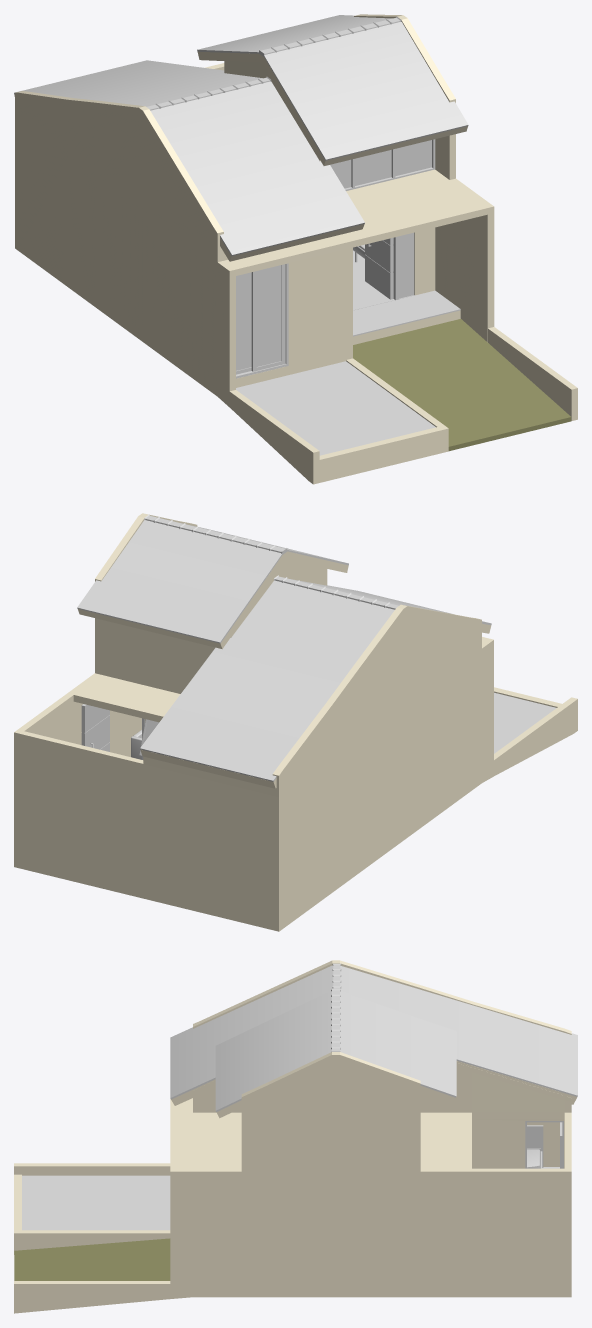
The model's file is NWP2.FBX.
The picture shows the model from 3 angles, top to bottom: view 1: azimuth 30°, elevation 25°; view 2: azimuth 150°, elevation 25°; view 3: azimuth 270°, elevation 25°; orthographic projection. The views are drawn at different scales.
Parts seen in each view (by area): view 1: Rectangle078, ATAPKIRI2, ATAPKANAN2, garasi001, taman depan001, floorTeras2dpn, Box109, KacaJendelaAtas003, Object014, Box111, Pintu2Depan, Box108 (+4 smaller); view 2: Rectangle078, ATAPKIRI2, ATAPKANAN2, taman depan001, Object014, Pintu2Belakang; view 3: Rectangle078, ATAPKIRI2, ATAPKANAN2, taman depan001, garasi001, Object014, DIPAN002.
Part boxes in pixels (x1,y1,x2,y2): Rectangle078: [14, 14, 577, 484]; ATAPKIRI2: [14, 60, 364, 256]; ATAPKANAN2: [197, 15, 468, 160]; garasi001: [353, 319, 571, 451]; taman depan001: [236, 361, 435, 455]; floorTeras2dpn: [353, 290, 460, 336]; Box109: [256, 265, 281, 366]; KacaJendelaAtas003: [330, 140, 431, 188]; Object014: [147, 16, 401, 110]; Box111: [236, 272, 251, 370]; Pintu2Depan: [365, 237, 393, 299]; Box108: [251, 264, 285, 371]; Rectangle078: [14, 513, 577, 931]; ATAPKIRI2: [140, 579, 491, 781]; ATAPKANAN2: [77, 520, 348, 643]; taman depan001: [494, 692, 556, 753]; Object014: [144, 514, 398, 609]; Pintu2Belakang: [81, 704, 109, 751]; Rectangle078: [14, 960, 577, 1313]; ATAPKIRI2: [170, 965, 577, 1099]; ATAPKANAN2: [215, 991, 456, 1111]; taman depan001: [22, 1175, 170, 1230]; garasi001: [14, 1238, 170, 1280]; Object014: [331, 963, 341, 1052]; DIPAN002: [527, 1125, 543, 1168].
Bounding box in the file's own units: 245 × 245 × 483.
